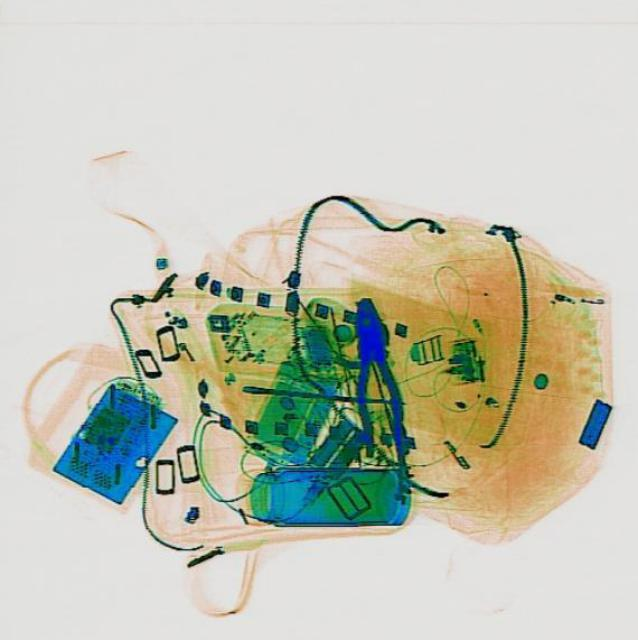Pliers: (338, 292, 410, 464)
